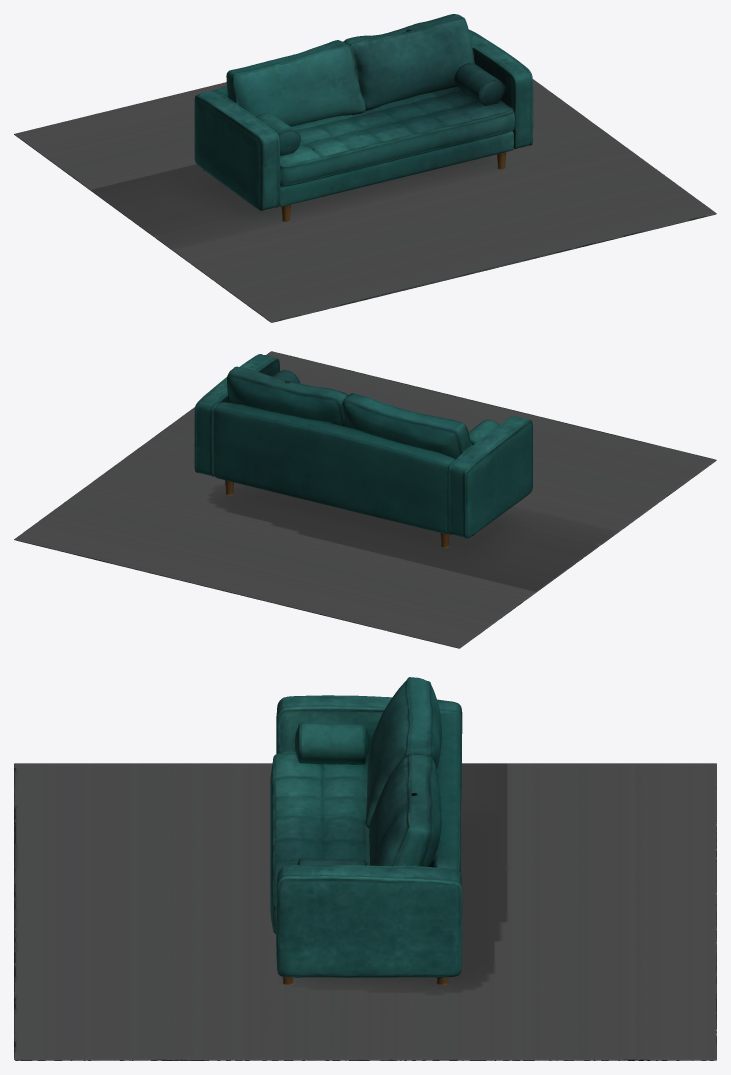
Rendered from sofa.glb.glb.
The picture shows the model from 3 angles, top to bottom: view 1: azimuth 30°, elevation 25°; view 2: azimuth 150°, elevation 25°; view 3: azimuth 270°, elevation 25°; orthographic projection. The views are drawn at different scales.
Visible parts, largest first — view 1: world; view 2: world; view 3: world.
Boxes of the visible parts, x1,y1,x2,y2 form: world: (14, 14, 716, 322); world: (14, 351, 716, 648); world: (14, 677, 716, 1060).
Bounding box in the file's own units: 1 × 0.2566 × 1.
Materials: 1 (1 with a texture image).
